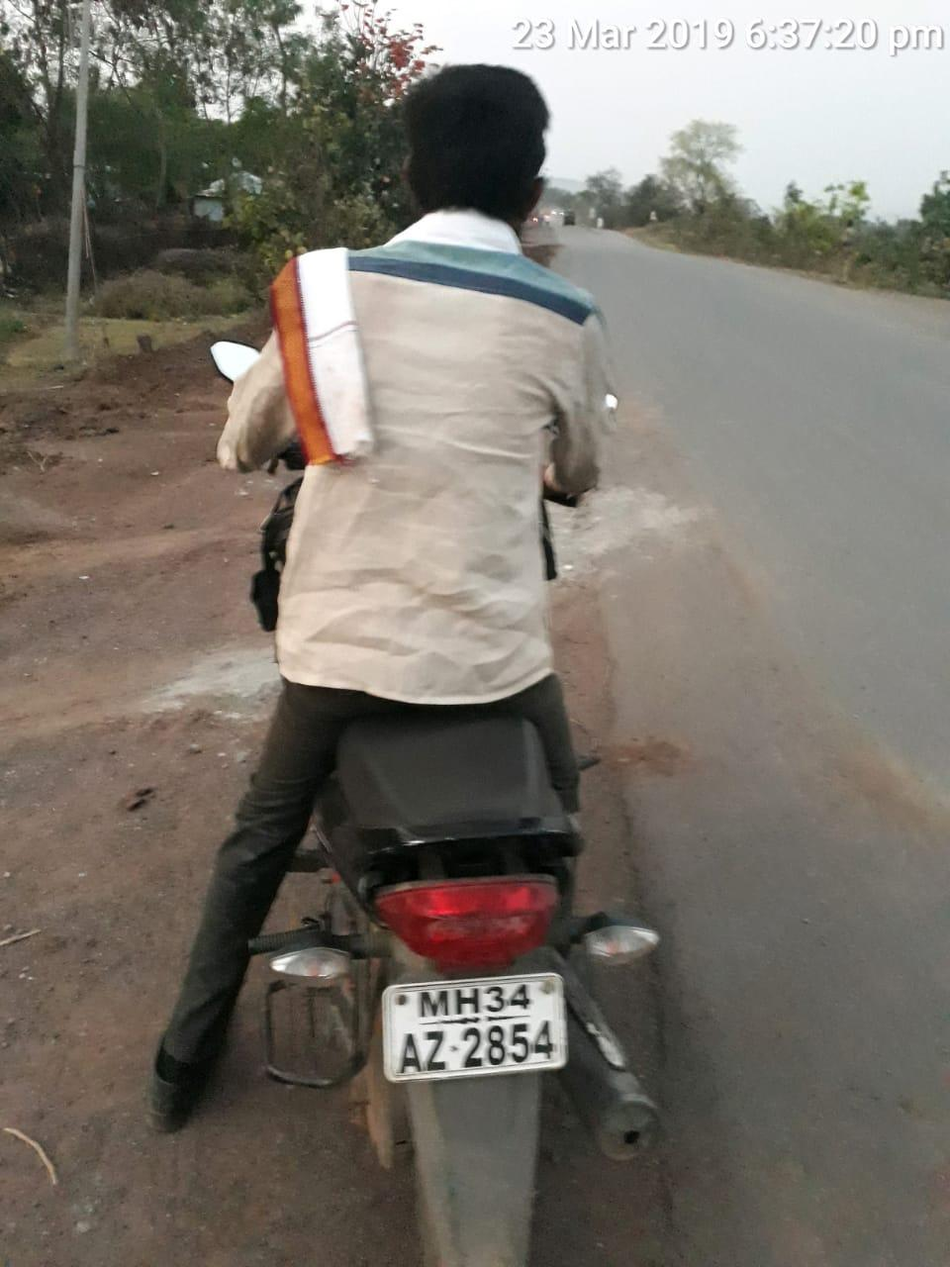plate: (365, 948, 596, 1103)
